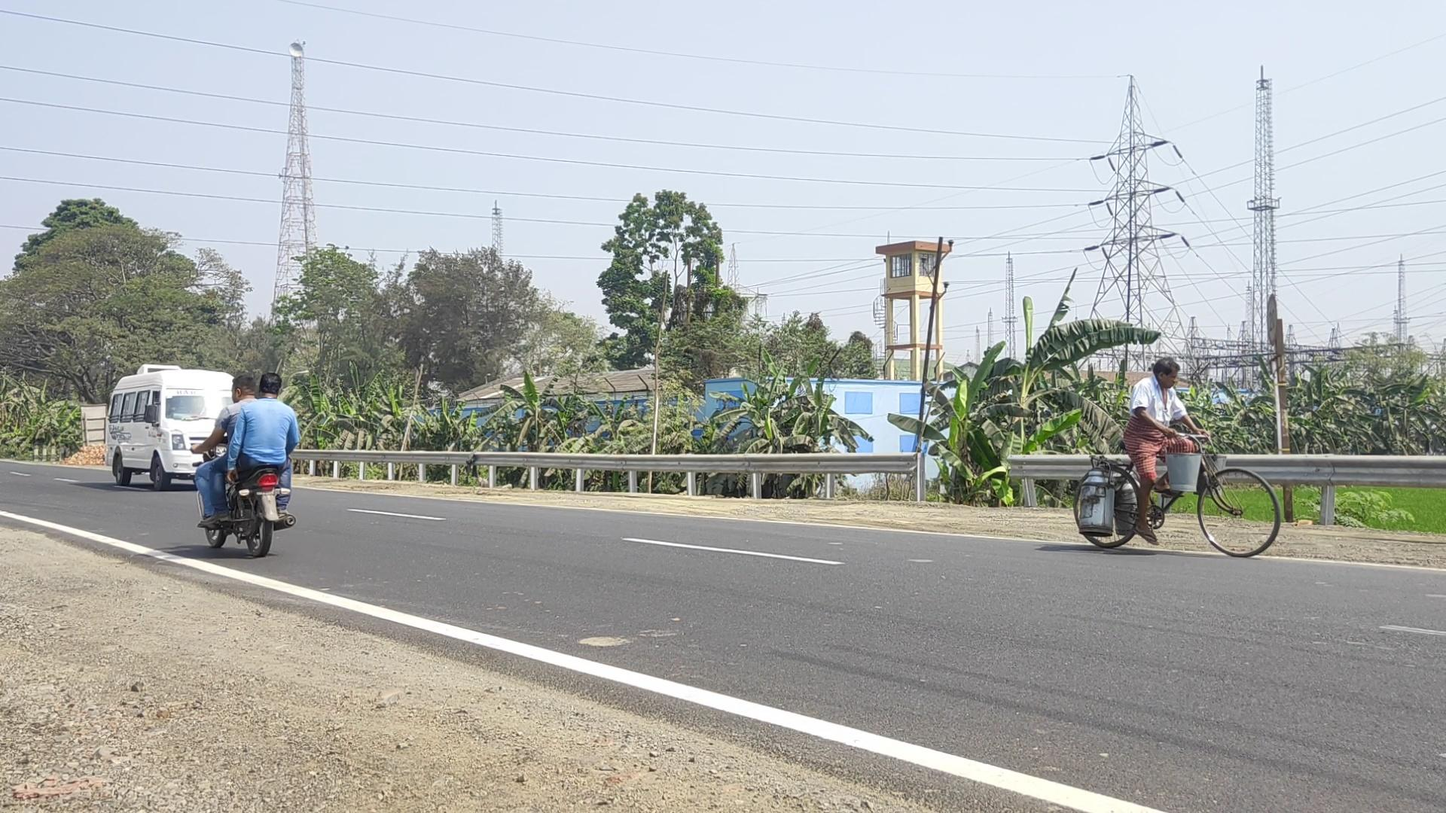bike: (1072, 358, 1280, 558), (191, 375, 299, 559)
van: (105, 364, 239, 490)
